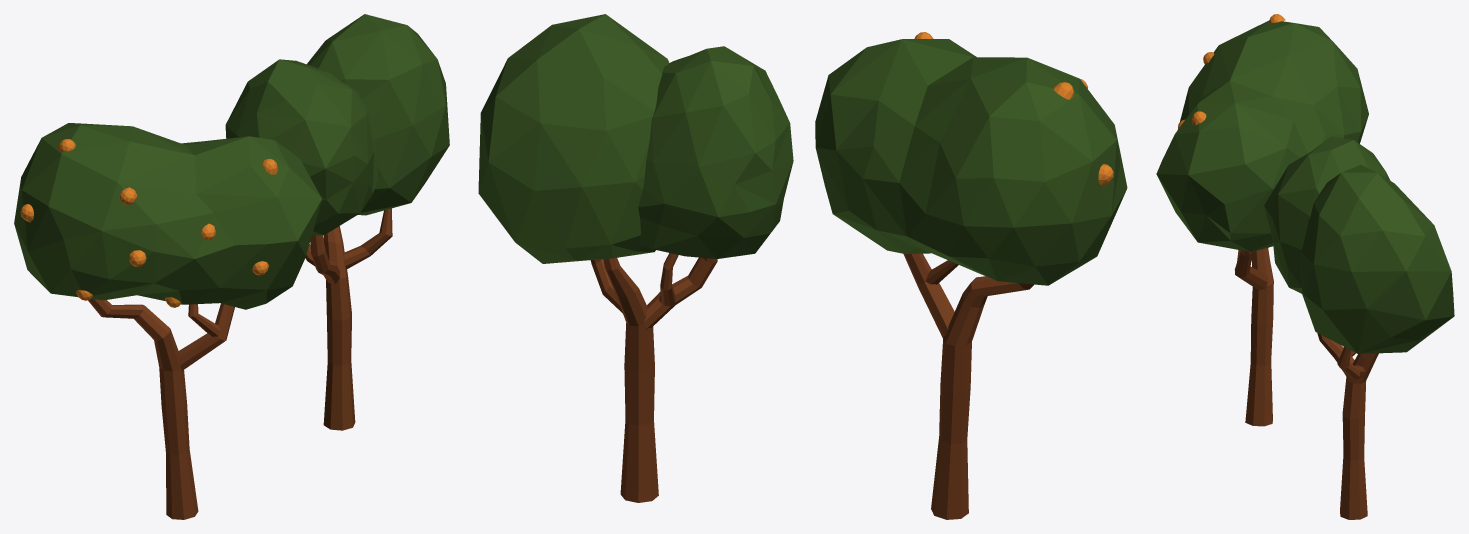
Rendered from Arvores-Editando.fbx.
The picture shows the model from 3 angles, left to right: view 1: azimuth 30°, elevation 25°; view 2: azimuth 150°, elevation 25°; view 3: azimuth 270°, elevation 25°; orthographic projection. The views are drawn at different scales.
Parts seen in each view (by area): view 1: folhagemArv1.002, ArvOk; view 2: ArvOk, folhagemArv1.002; view 3: folhagemArv1.002, ArvOk.
Boxes of the visible parts, box(x1,y1,x2,y2) form: folhagemArv1.002: box(14, 123, 321, 519); ArvOk: box(225, 14, 449, 430); ArvOk: box(478, 14, 793, 502); folhagemArv1.002: box(815, 32, 1127, 519); folhagemArv1.002: box(1156, 14, 1368, 426); ArvOk: box(1264, 136, 1454, 519).
Size of the model in its own units: 137 by 111 by 83.02.
